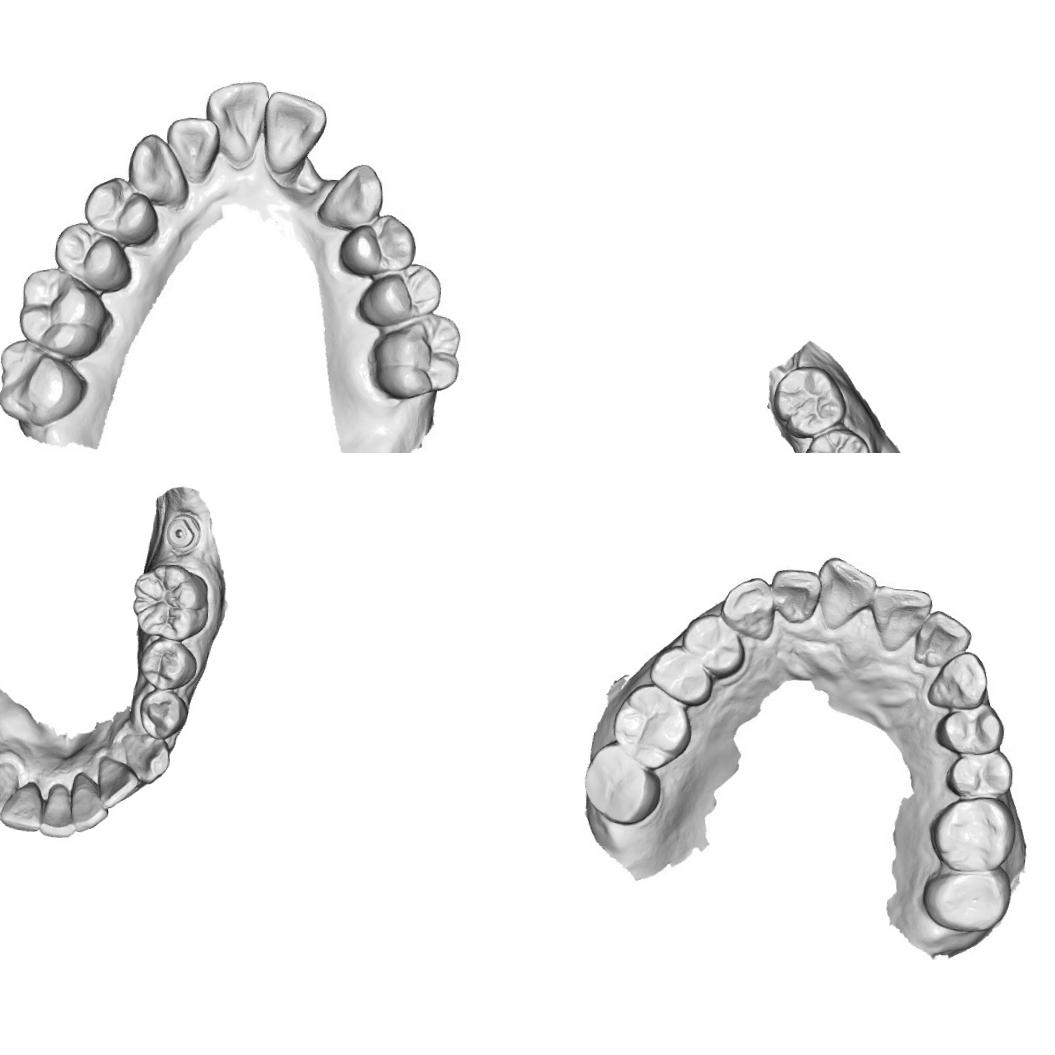canine: (122, 130, 188, 204), (318, 160, 385, 228), (716, 575, 780, 641), (926, 649, 988, 709), (116, 730, 171, 785), (0, 759, 19, 819)
implant: (163, 507, 203, 559)
incisor: (260, 88, 330, 175), (201, 79, 266, 166), (866, 581, 928, 648), (814, 559, 873, 628), (911, 610, 973, 664), (66, 769, 112, 835), (166, 116, 216, 176), (770, 570, 820, 622), (94, 754, 140, 810), (38, 780, 78, 840), (0, 778, 44, 832)
molar: (362, 303, 470, 406), (10, 264, 114, 365), (0, 336, 87, 432), (576, 742, 668, 828), (127, 560, 211, 643), (928, 794, 1014, 875), (920, 864, 1016, 936), (769, 362, 850, 442), (612, 688, 683, 758), (798, 425, 876, 453)
premolar: (355, 256, 446, 332), (78, 168, 158, 251), (49, 218, 134, 294), (333, 211, 419, 282), (682, 614, 746, 676), (941, 750, 1020, 798), (932, 702, 1004, 752), (136, 635, 198, 692), (136, 686, 190, 742), (654, 648, 711, 701)
